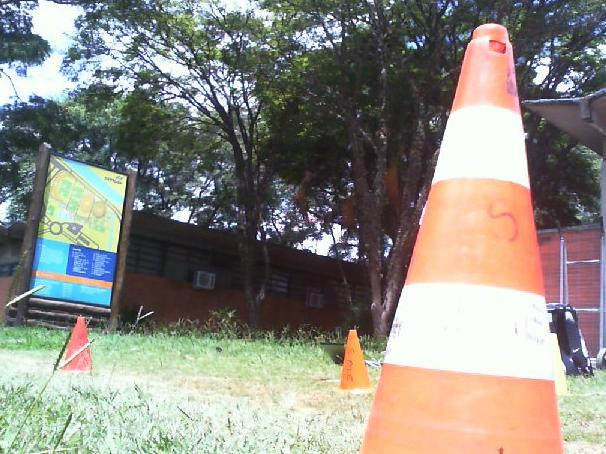0 cone: (323, 23, 569, 454), (338, 329, 374, 394), (58, 317, 95, 376)
